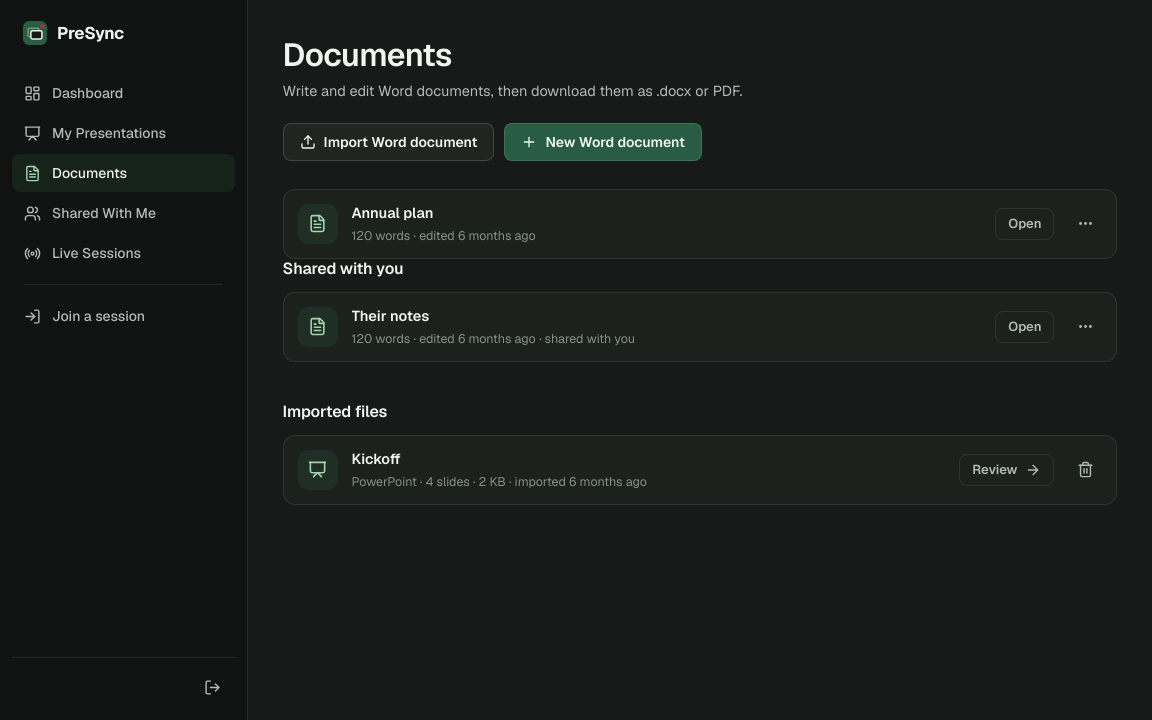
it: DocumentsPage › renames a document
Expected: the list named "Word documents" is shown, [282,189,1117,259]
Click the button named "Actions for Annual plan". click: (1086, 224)
box: [1068,207,1102,241]
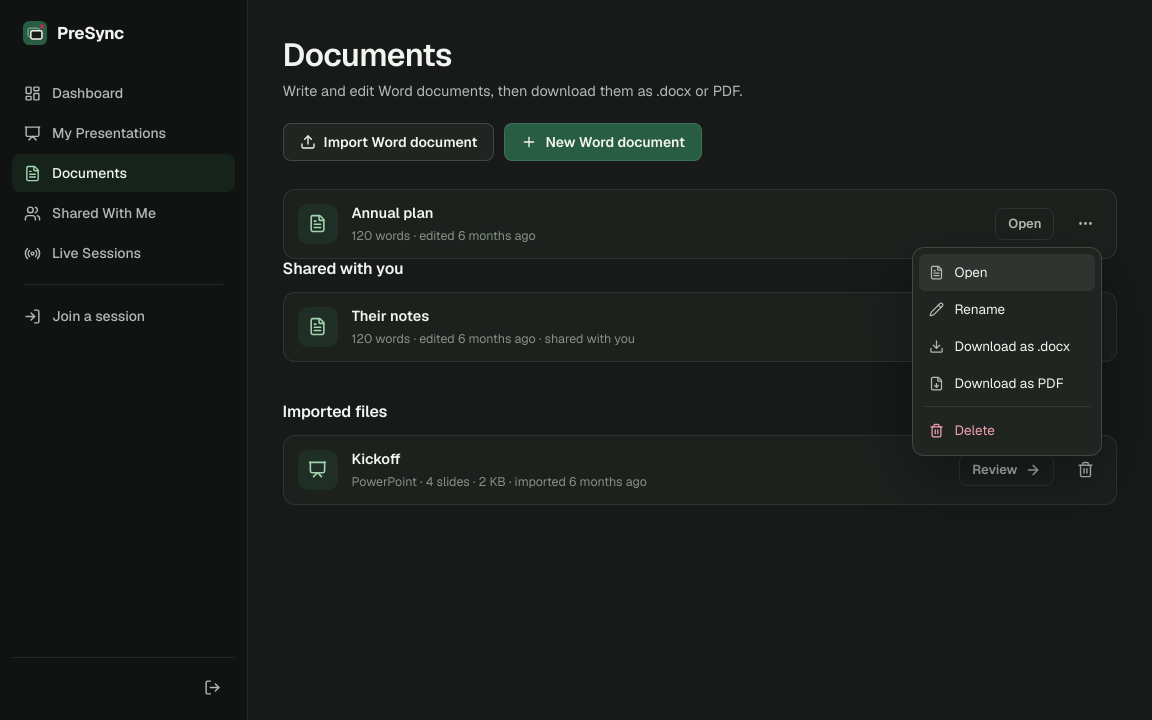
Click the menu item "Rename". click: (1008, 309)
box: [920,291,1096,328]
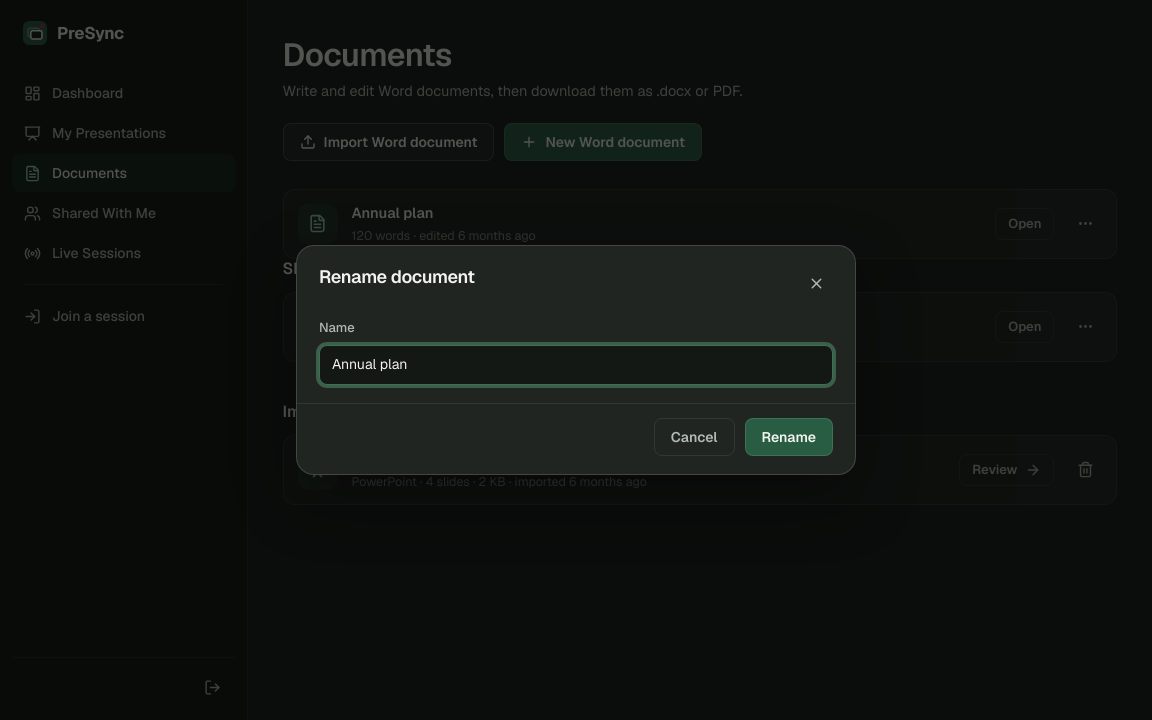
Replace the text in the field labelled "Name" with "Renamed". click: (576, 365)
box: [319,345,833,385]
Then press Enter
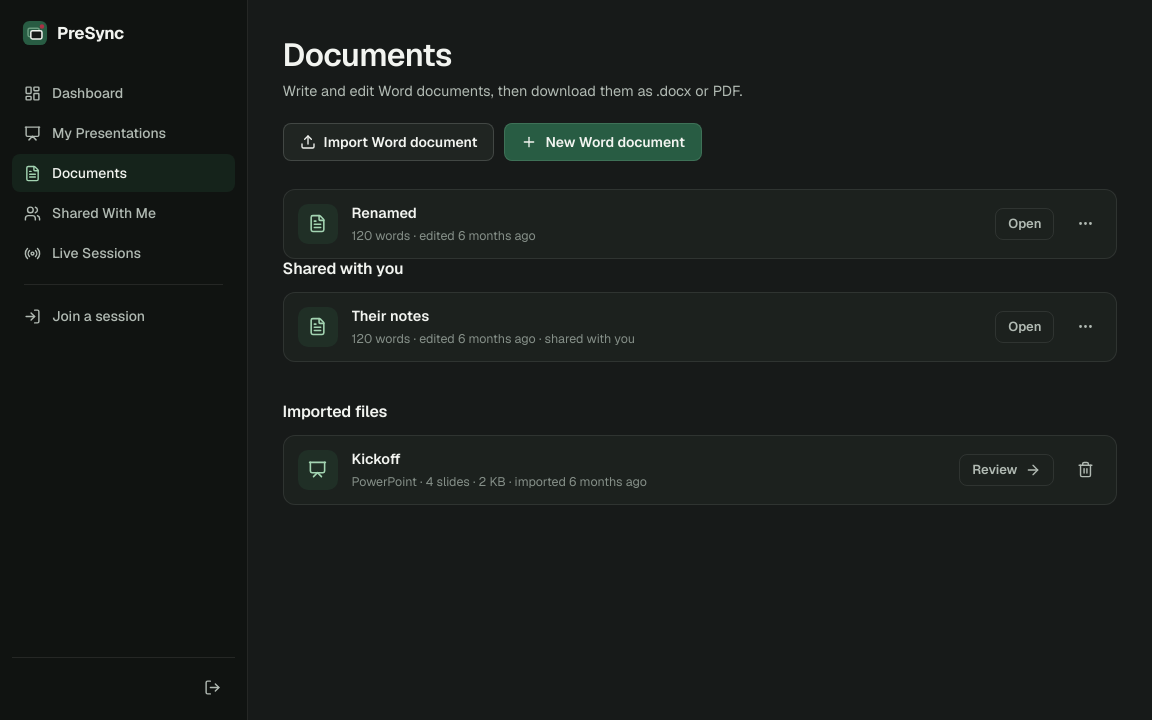
Now the link "Renamed" is shown, box [352,203,417,222]
